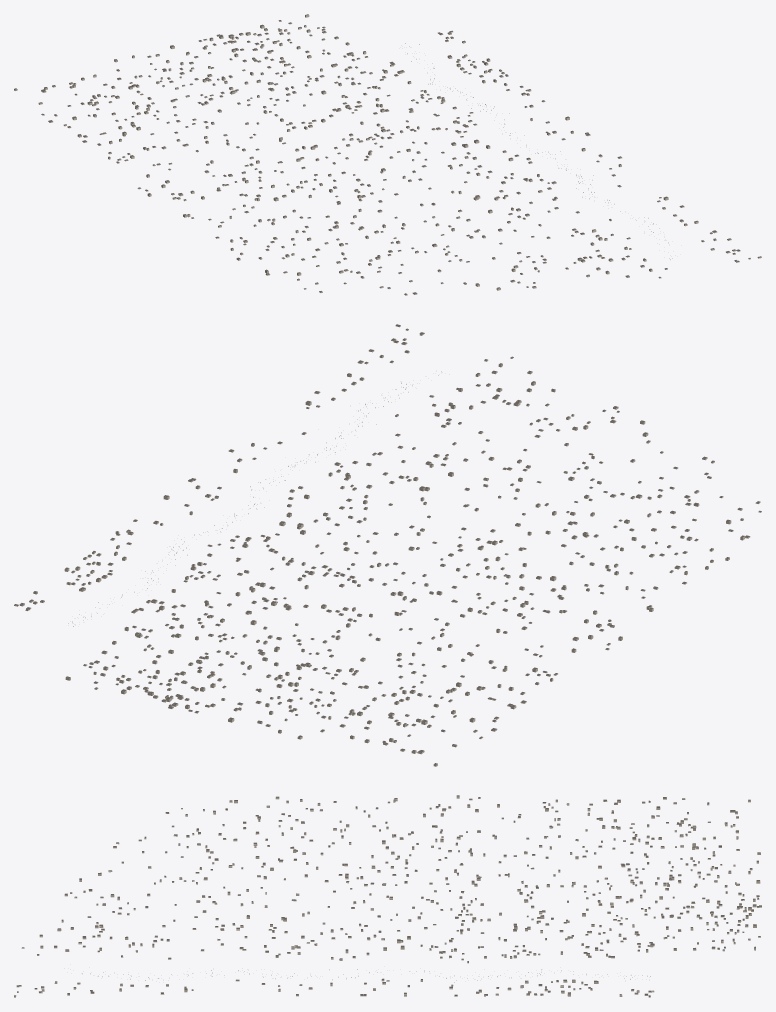
File: SM_RiyadhNights_Far_City_1.fbx
3 views of the same model, one above another, from view 1: azimuth 30°, elevation 25°; view 2: azimuth 150°, elevation 25°; view 3: azimuth 270°, elevation 25° (orthographic). The views are drawn at different scales.
Visible parts, largest first — view 1: SM_RiyadhNights_Far_City_1; view 2: SM_RiyadhNights_Far_City_1; view 3: SM_RiyadhNights_Far_City_1.
Boxes of the visible parts, box(x1,y1,x2,y2) form: SM_RiyadhNights_Far_City_1: box(14, 14, 761, 295); SM_RiyadhNights_Far_City_1: box(14, 324, 761, 766); SM_RiyadhNights_Far_City_1: box(14, 795, 761, 997).
Bounding box in the file's own units: 472830 × 8873 × 748357.
